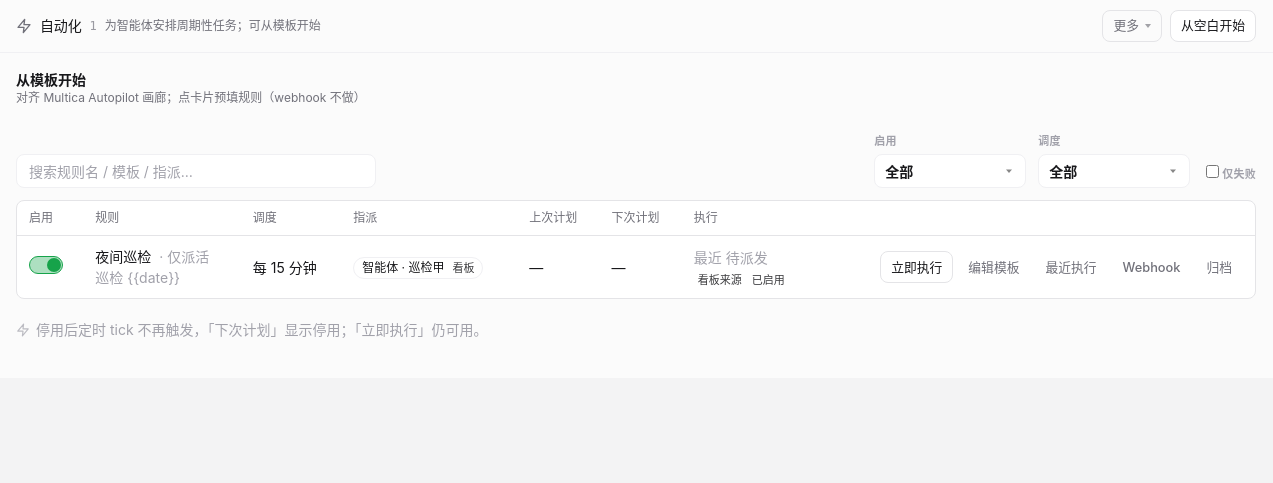
Test case: AutomationPage skipped streak drilldown › does not render a skipped group for ordinary-only history
What coordinates should you click on to do the following:
click the button "最近执行"
I would click on:
 (1071, 267)
Its box is [1034,251,1108,283].
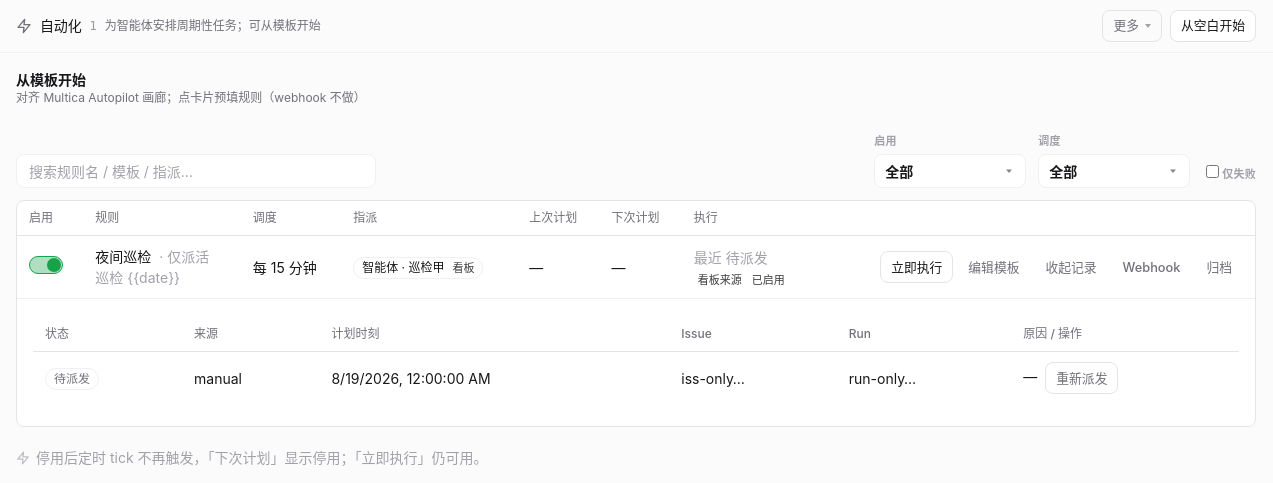
Now the button with test id "automation-reconcile-pending-only" is shown, box [1045,362,1118,394]
